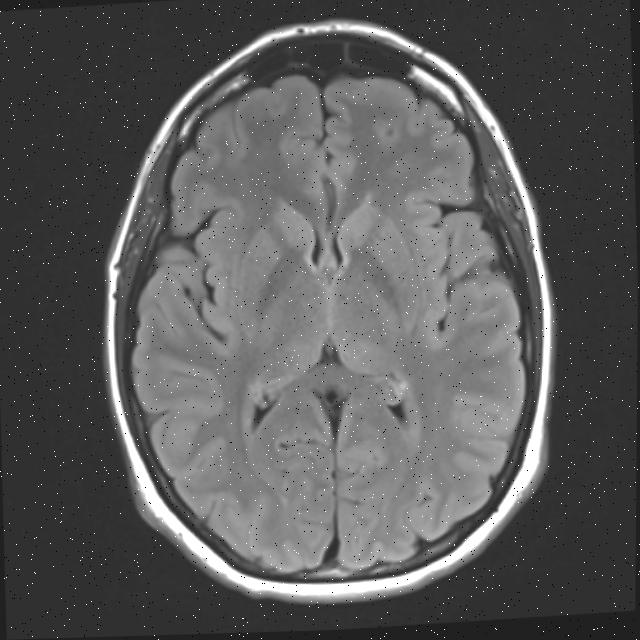NoTumor: (91, 4, 563, 613)
